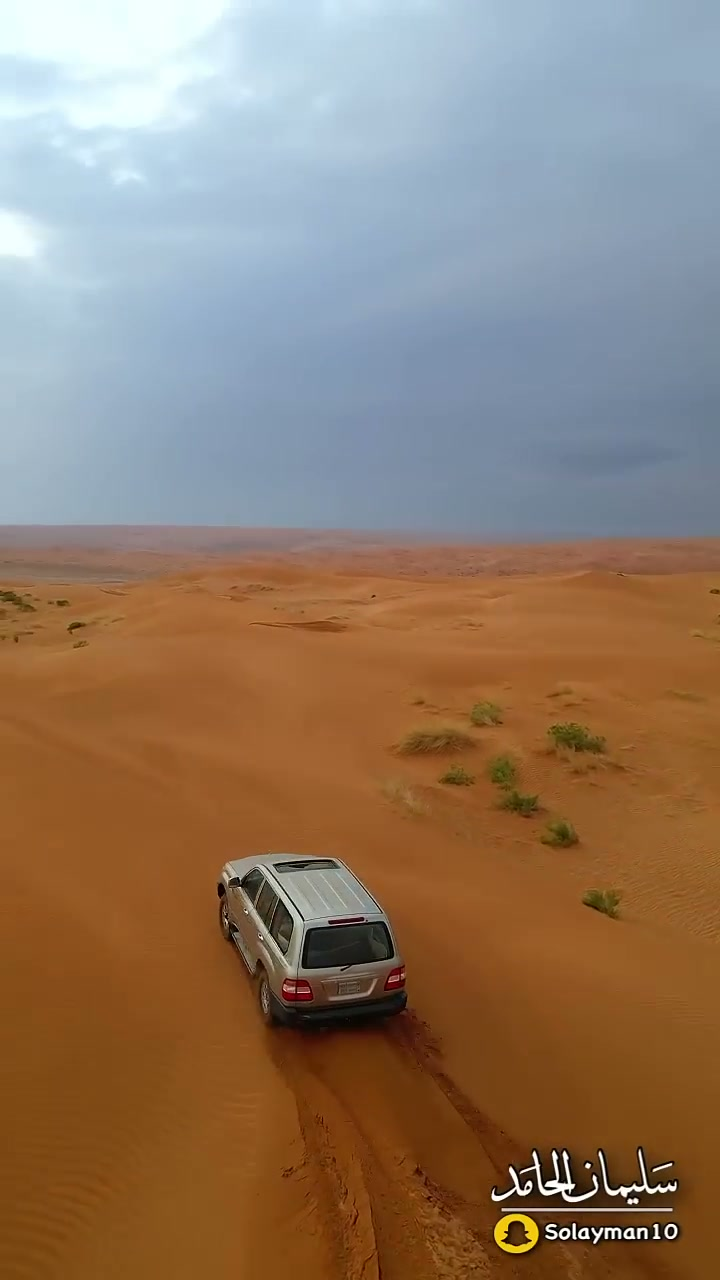vehicle_track: (270, 1014, 668, 1279), (273, 1036, 493, 1279)
